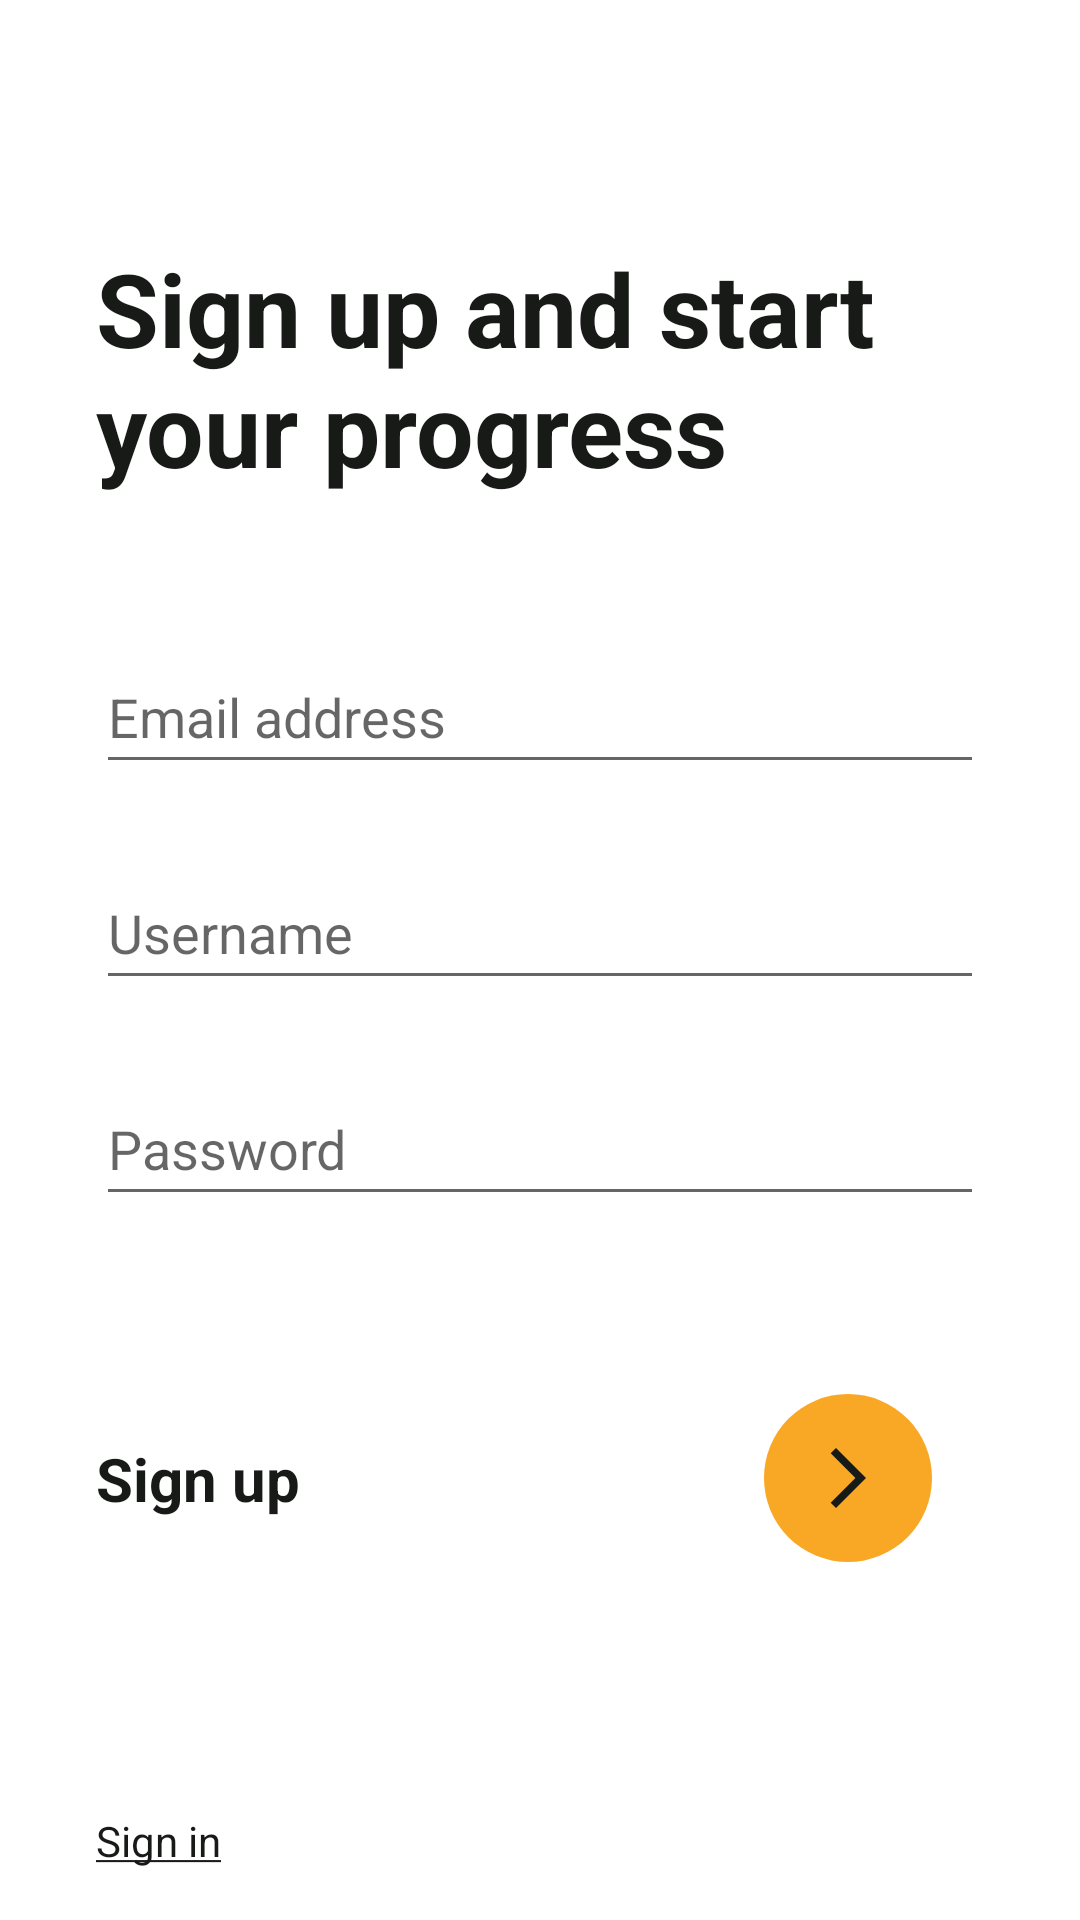

Named icons in this screenshot (1080w x 1920h) and their centers, (x=x, y=y):
arrow forward: (x=848, y=1478)
